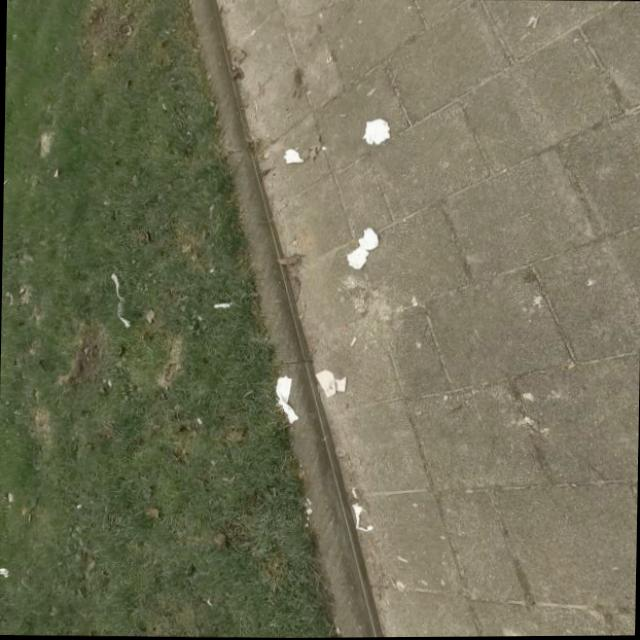Paper: (106, 272, 132, 328), (272, 376, 300, 426), (313, 368, 347, 399), (360, 117, 390, 145), (349, 502, 374, 532), (344, 246, 368, 270), (356, 229, 378, 251), (281, 148, 303, 164)
